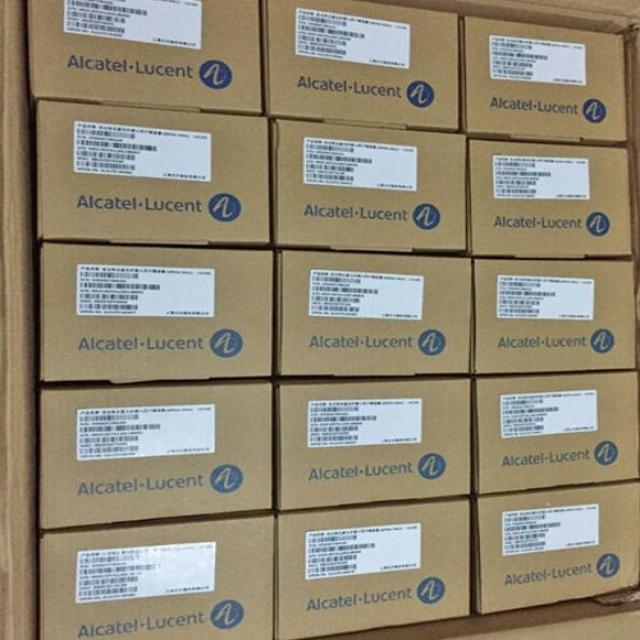Carton: (38, 376, 472, 524), (32, 106, 271, 245), (37, 241, 273, 379), (41, 520, 269, 639), (278, 505, 468, 639), (28, 0, 262, 108), (278, 121, 461, 253), (280, 249, 468, 377), (262, 2, 460, 123), (477, 485, 639, 614), (477, 372, 639, 495), (466, 15, 621, 142), (468, 259, 634, 376), (475, 142, 622, 251)
